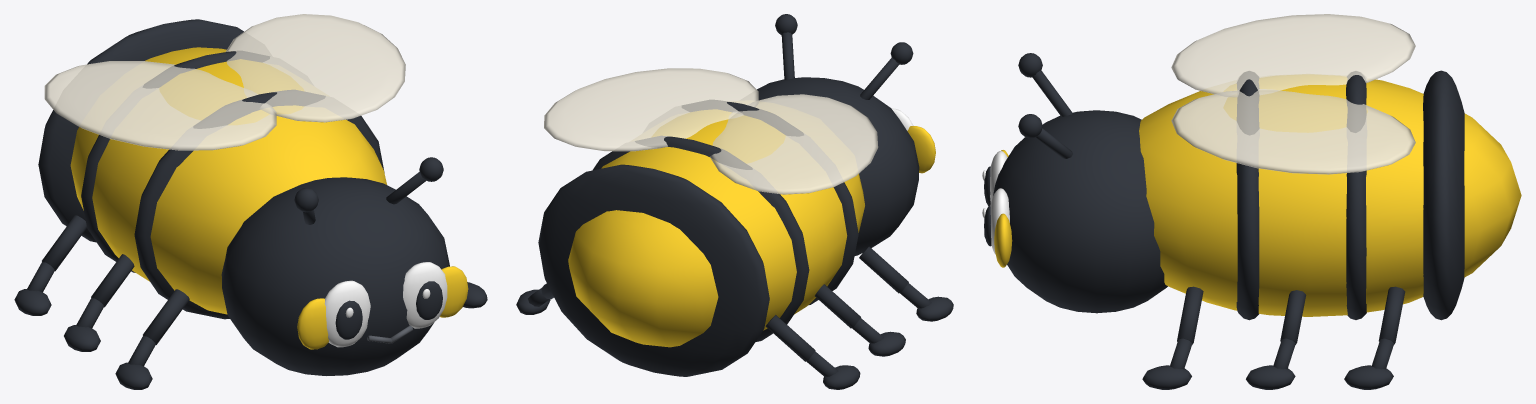
Rendered from Bee.glb.
The picture shows the model from 3 angles, left to right: view 1: azimuth 30°, elevation 25°; view 2: azimuth 150°, elevation 25°; view 3: azimuth 270°, elevation 25°; orthographic projection. The views are drawn at different scales.
Parts seen in each view (by area): view 1: Bee_YellowBody, Bee_Head, Bee_Wing_L, Bee_Wing_R, Bee_BlackBand_3, Bee_BlackBand_1, Bee_BlackBand_2, Bee_EyeWhite_L, Bee_EyeWhite_R, Bee_Cheek_L, Bee_Leg_L1_Upper, Bee_Leg_L3_Upper (+14 smaller); view 2: Bee_YellowBody, Bee_BlackBand_3, Bee_Wing_L, Bee_Wing_R, Bee_Head, Bee_BlackBand_2, Bee_BlackBand_1, Bee_Leg_L1_Upper, Bee_Leg_L3_Upper, Bee_Cheek_L, Bee_Leg_L2_Upper, Bee_Leg_L1_Foot (+10 smaller); view 3: Bee_YellowBody, Bee_Head, Bee_Wing_R, Bee_Wing_L, Bee_BlackBand_3, Bee_BlackBand_1, Bee_BlackBand_2, Bee_Leg_R1_Upper, Bee_Leg_R3_Upper, Bee_Leg_R3_Foot, Bee_Leg_R1_Foot, Bee_Leg_R2_Foot (+10 smaller).
Boxes of the visible parts, x1,y1,x2,y2 form: Bee_YellowBody: [70, 47, 386, 314]; Bee_Head: [221, 177, 449, 375]; Bee_Wing_L: [44, 61, 276, 150]; Bee_Wing_R: [225, 14, 405, 122]; Bee_BlackBand_3: [38, 19, 243, 242]; Bee_BlackBand_1: [134, 90, 384, 319]; Bee_BlackBand_2: [81, 51, 269, 272]; Bee_EyeWhite_L: [324, 280, 370, 347]; Bee_EyeWhite_R: [403, 262, 447, 328]; Bee_Cheek_L: [297, 298, 328, 349]; Bee_Leg_L1_Upper: [143, 289, 189, 344]; Bee_Leg_L3_Upper: [42, 215, 86, 271]; Bee_YellowBody: [568, 109, 864, 347]; Bee_BlackBand_3: [538, 164, 769, 376]; Bee_Wing_L: [710, 94, 878, 194]; Bee_Wing_R: [544, 68, 758, 151]; Bee_Head: [757, 77, 919, 255]; Bee_BlackBand_2: [593, 136, 809, 341]; Bee_BlackBand_1: [682, 100, 858, 305]; Bee_Leg_L1_Upper: [859, 246, 908, 293]; Bee_Leg_L3_Upper: [765, 315, 815, 361]; Bee_Cheek_L: [907, 126, 935, 173]; Bee_Leg_L2_Upper: [815, 284, 860, 328]; Bee_Leg_L1_Foot: [916, 296, 953, 321]; Bee_YellowBody: [1139, 74, 1521, 316]; Bee_Head: [993, 110, 1167, 313]; Bee_Wing_R: [1171, 89, 1415, 174]; Bee_Wing_L: [1171, 14, 1415, 96]; Bee_BlackBand_3: [1423, 70, 1464, 320]; Bee_BlackBand_1: [1236, 71, 1259, 320]; Bee_BlackBand_2: [1346, 71, 1366, 319]; Bee_Leg_R1_Upper: [1177, 286, 1203, 344]; Bee_Leg_R3_Upper: [1378, 286, 1405, 344]; Bee_Leg_R3_Foot: [1344, 365, 1393, 389]; Bee_Leg_R1_Foot: [1142, 365, 1191, 389]; Bee_Leg_R2_Foot: [1246, 365, 1295, 389].
Bounding box in the file's own units: 2.55 × 1.49 × 3.29.
